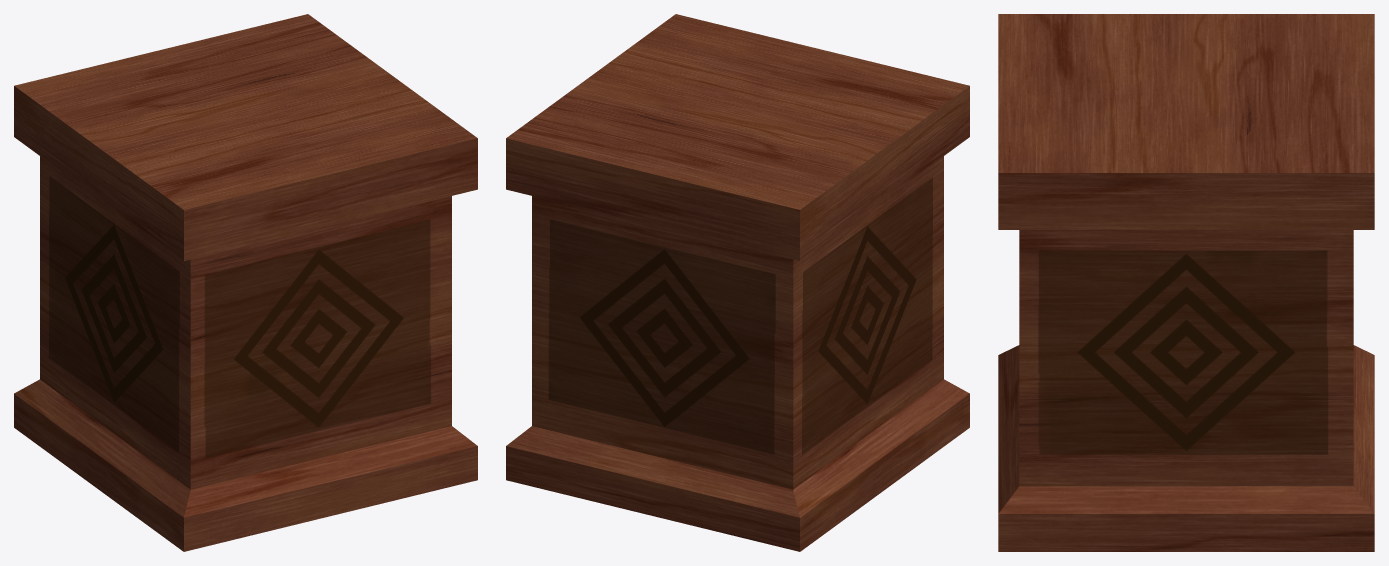
File: mesa.obj
The picture shows the model from 3 angles, left to right: view 1: azimuth 30°, elevation 25°; view 2: azimuth 150°, elevation 25°; view 3: azimuth 270°, elevation 25°; orthographic projection. The views are drawn at different scales.
Parts seen in each view (by area): view 1: Cube_309__lambert1_0; view 2: Cube_309__lambert1_0; view 3: Cube_309__lambert1_0.
Boxes of the visible parts, left/top/right/bottom form: Cube_309__lambert1_0: left=14, top=14, right=477, bottom=551; Cube_309__lambert1_0: left=506, top=14, right=969, bottom=551; Cube_309__lambert1_0: left=998, top=14, right=1374, bottom=551.
Bounding box in the file's own units: 1.13 × 1.25 × 1.13.
